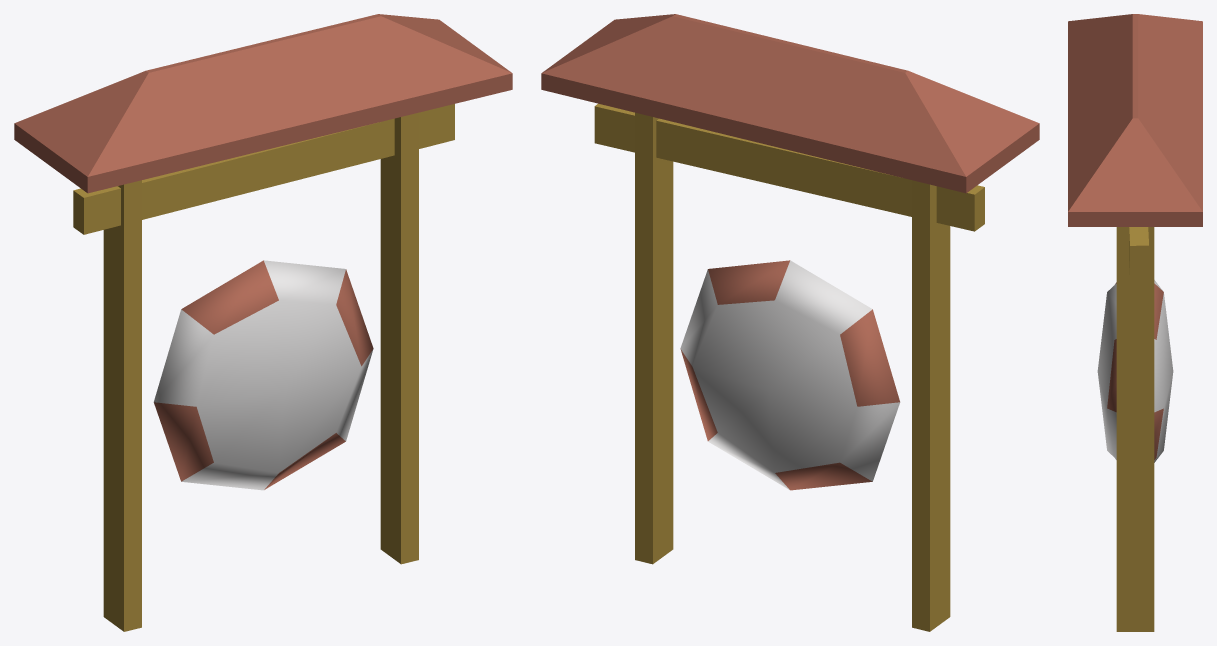
The model's file is bonus_arch.fbx.
3 views of the same model, side by side, from view 1: azimuth 30°, elevation 25°; view 2: azimuth 150°, elevation 25°; view 3: azimuth 270°, elevation 25° (orthographic). The views are drawn at different scales.
Parts seen in each view (by area): view 1: polySurface1, polySurface2; view 2: polySurface1, polySurface2; view 3: polySurface1, polySurface2.
Part boxes in pixels (box(x1,y1,x2,y2)): polySurface1: box(14, 14, 512, 631); polySurface2: box(153, 260, 373, 490); polySurface1: box(541, 14, 1039, 631); polySurface2: box(680, 260, 900, 490); polySurface1: box(1068, 14, 1202, 631); polySurface2: box(1097, 280, 1173, 462).
Bounding box in the file's own units: 2070 × 2535 × 619.
